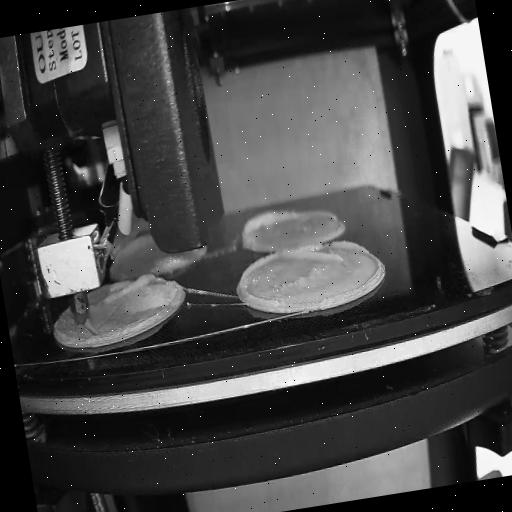over_extrusion: (230, 252, 286, 312), (280, 236, 370, 272), (88, 272, 163, 312), (238, 202, 298, 248), (308, 206, 338, 226), (84, 317, 102, 337)
